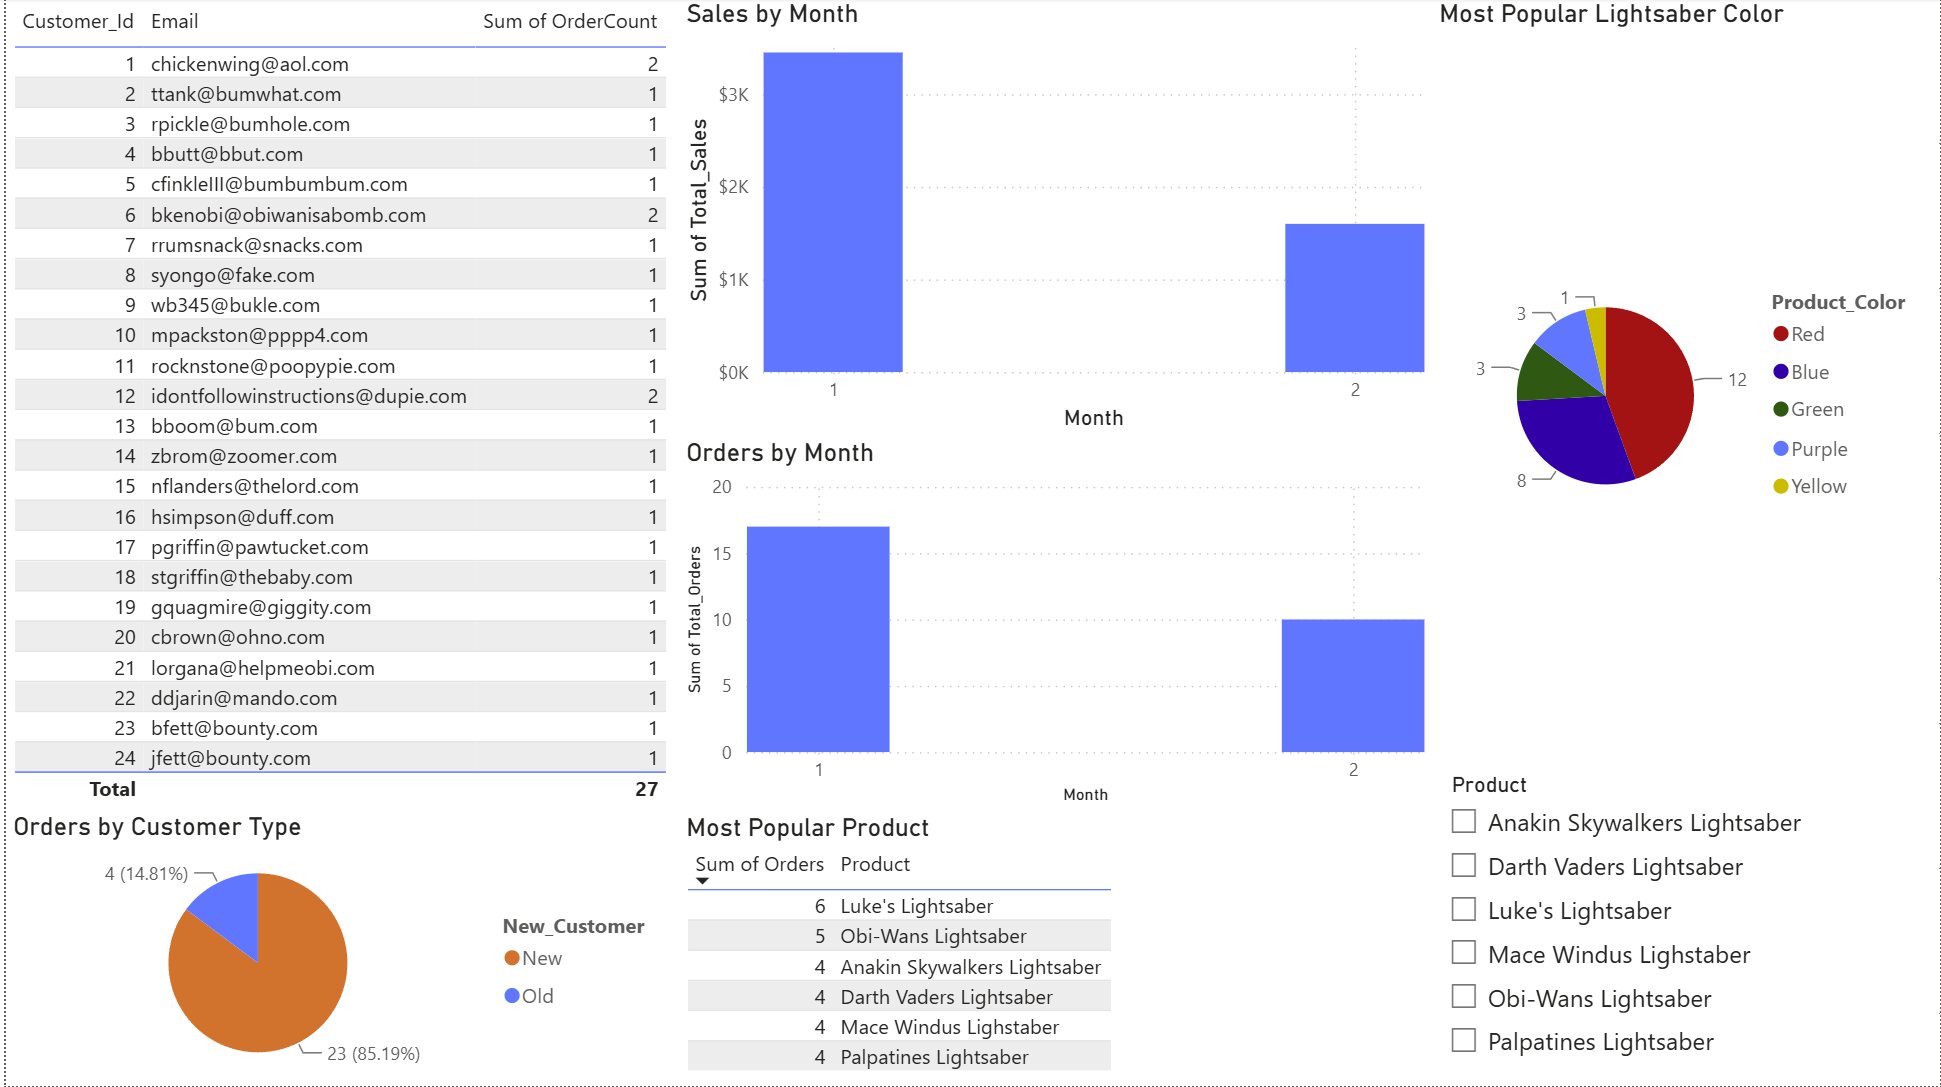

Layout of this report page (visuals, bound fields, positions):
{"tool":"powerbi","page":{"name":"Page 1","canvas":[1280,720],"ordinal":0},"visuals":[{"type":"tableEx","fields":{"Values":["vwOrdersByCustomer.Customer_Id","vwOrdersByCustomer.Email","Sum(vwOrdersByCustomer.OrderCount)"]},"box":[0,0,445.6,538.3],"z":0},{"type":"pieChart","title":"Orders by Customer Type","fields":{"Y":["Sum(vwOrdersByCustomerType.Orders)"],"Category":["vwOrdersByCustomerType.New_Customer"]},"box":[0,538.3,445.6,182.1],"z":1},{"type":"columnChart","title":"Sales by Month","fields":{"Y":["Sum(vwTotalSalesByMonth.Total_Sales)"],"Category":["vwTotalSalesByMonth.Month"]},"box":[445.6,0,498.5,290.6],"z":2},{"type":"columnChart","title":"Orders by Month","fields":{"Category":["vwTotalOrdersByMonth.Month"],"Y":["Sum(vwTotalOrdersByMonth.Total_Orders)"]},"box":[445.6,290.6,498.5,247.6],"z":3},{"type":"slicer","fields":{"Values":["vwMostPopularProducts.Product"]},"box":[944.1,507.8,335.7,212.5],"z":4},{"type":"tableEx","title":"Most Popular Product","fields":{"Values":["Sum(vwMostPopularProductCombos.Number_Of_Orders)","vwMostPopularProductCombos.Product"]},"box":[445.6,538.9,498.5,181.4],"z":5},{"type":"pieChart","title":"Most Popular Lightsaber Color","fields":{"Y":["Sum(vwMostPopularProductCombos.Number_Of_Orders)"],"Category":["vwMostPopularProductCombos.Product_Color"]},"box":[944.1,0,335.7,507.8],"z":6}]}

Visuals, with their boxes in screenshot pixels (x1, y1, x2, y2), scaled from the page's 1280x720 canvas onto the 1941x1087 screenshot:
tableEx - vwOrdersByCustomer.Customer_Id x vwOrdersByCustomer.Email: <region>0, 0, 676, 813</region>
"Orders by Customer Type" pieChart: <region>0, 813, 676, 1086</region>
"Sales by Month" columnChart: <region>676, 0, 1432, 439</region>
"Orders by Month" columnChart: <region>676, 439, 1432, 813</region>
slicer - vwMostPopularProducts.Product: <region>1432, 767, 1940, 1086</region>
"Most Popular Product" tableEx: <region>676, 814, 1432, 1086</region>
"Most Popular Lightsaber Color" pieChart: <region>1432, 0, 1940, 767</region>
